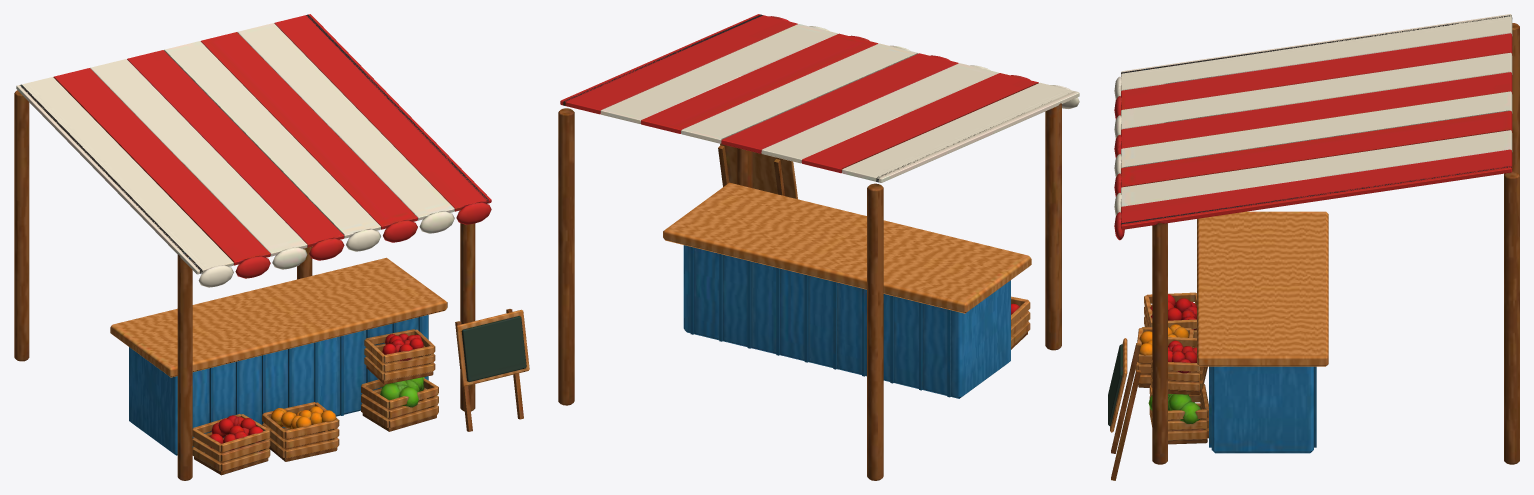
File: stall.glb
3 renders of one model, left to right at view 1: azimuth 30°, elevation 25°; view 2: azimuth 150°, elevation 25°; view 3: azimuth 270°, elevation 25°, orthographic. The views are drawn at different scales.
Parts seen in each view (by area): view 1: stall; view 2: stall; view 3: stall.
Part boxes in pixels (left/top/right/bottom): stall: left=14, top=14, right=529, bottom=480; stall: left=558, top=14, right=1079, bottom=480; stall: left=1108, top=14, right=1519, bottom=480.
Size of the model in its own units: 1.67 by 1.35 by 1.69.
Materials: 1 (1 with a texture image).
